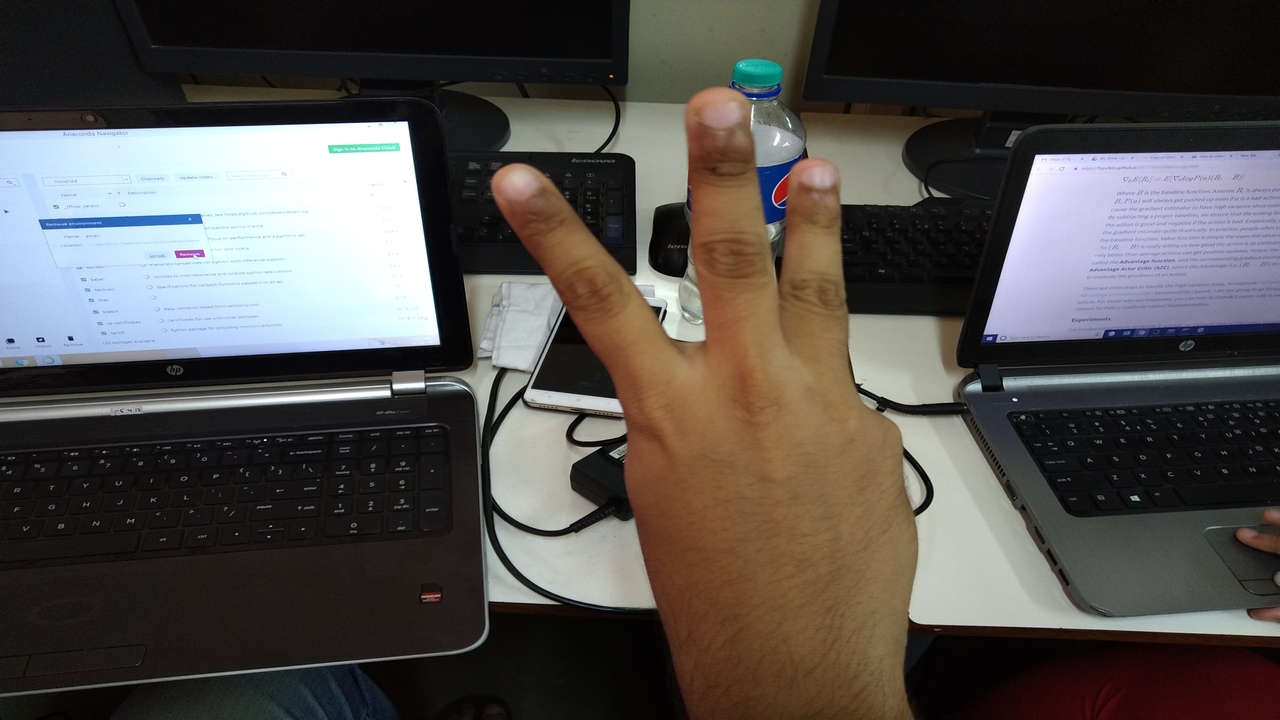fingertip: (486, 160, 554, 224), (684, 84, 752, 148), (790, 150, 844, 202)
